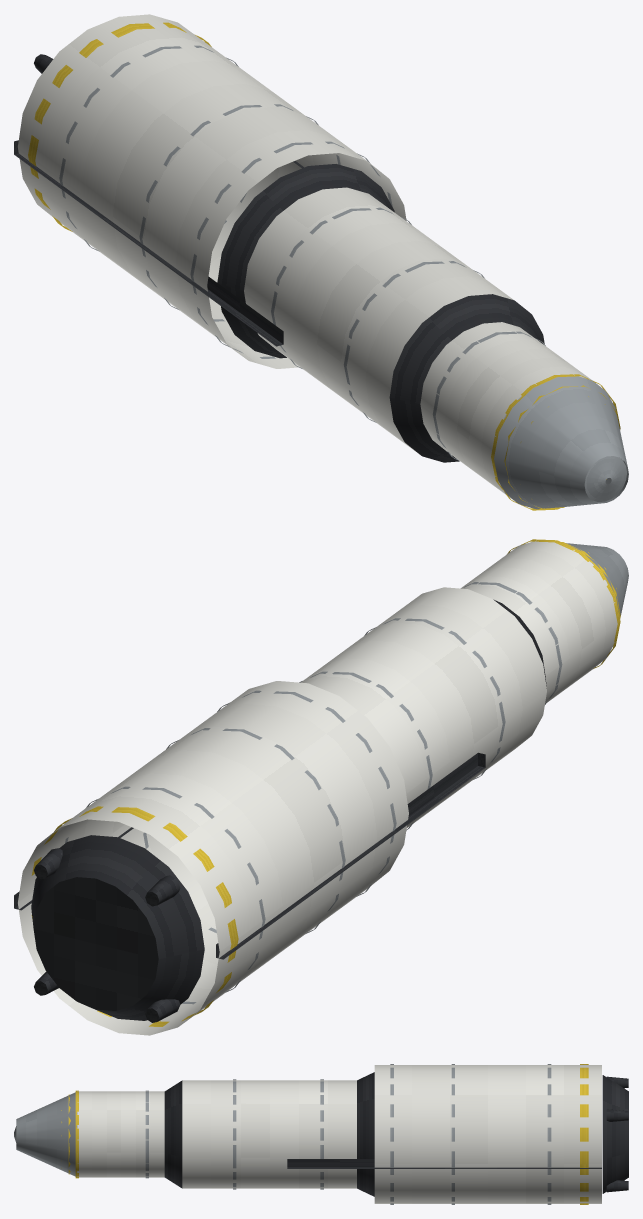
Rendered from missile_icbm_mirv.glb.
The picture shows the model from 3 angles, top to bottom: view 1: azimuth 30°, elevation 25°; view 2: azimuth 150°, elevation 25°; view 3: azimuth 270°, elevation 25°; orthographic projection. The views are drawn at different scales.
Visible parts, largest first — view 1: body; view 2: body; view 3: body.
Part boxes in pixels (x1=…): body: x1=14, y1=14, x2=628, y2=510; body: x1=14, y1=539, x2=628, y2=1035; body: x1=14, y1=1064, x2=628, y2=1204.
Size of the model in its own units: 1.66 by 1.61 by 7.04.
1 material, 1 textured.
